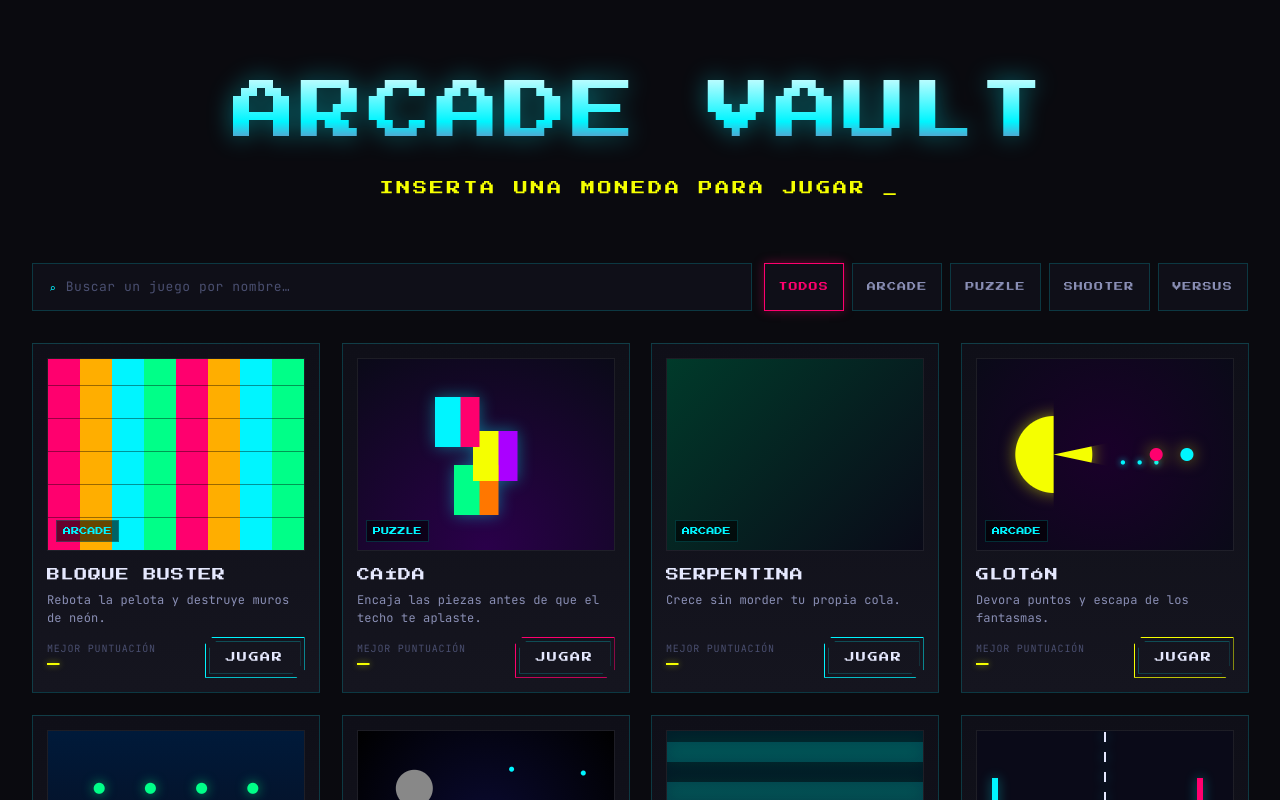
LibraryScreen › filters by category chip
Click the button "PUZZLE" at [996, 287], box [950, 263, 1041, 311]
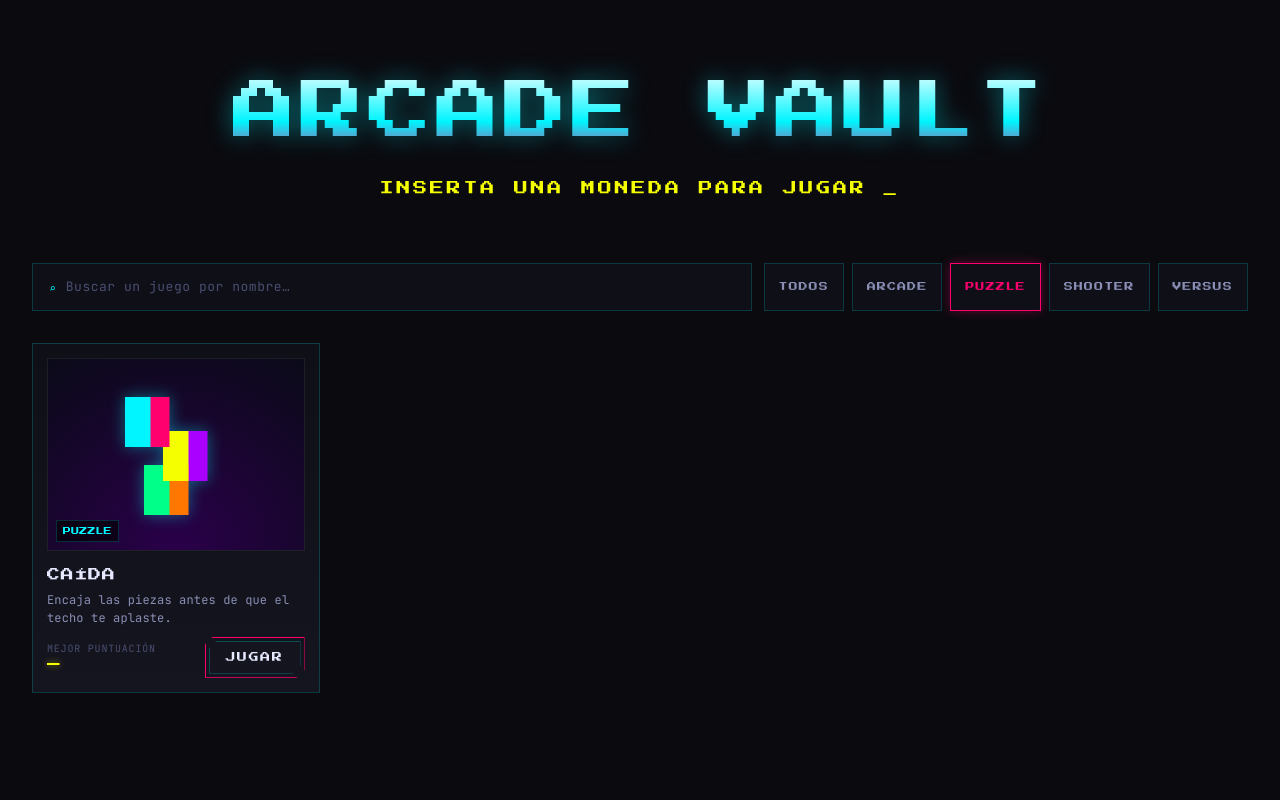
Expected: the text "CAÍDA" is shown, [47, 568, 116, 581]
Result: the link "SERPENTINA" is gone
